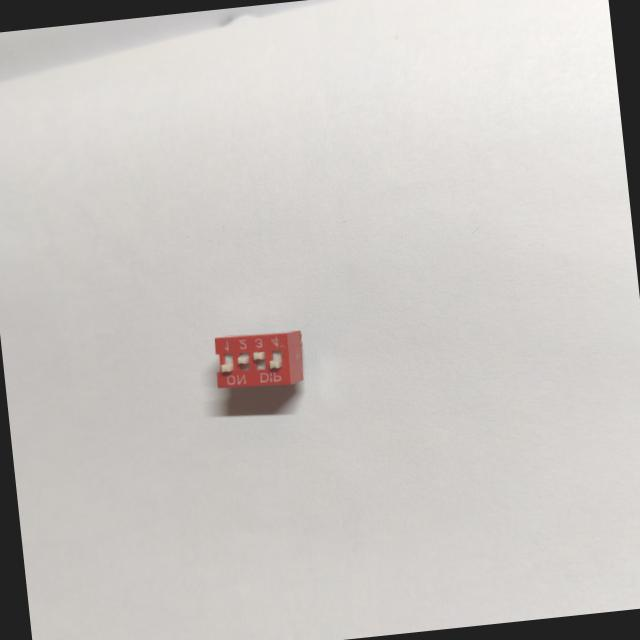switch: (198, 322, 319, 414)
